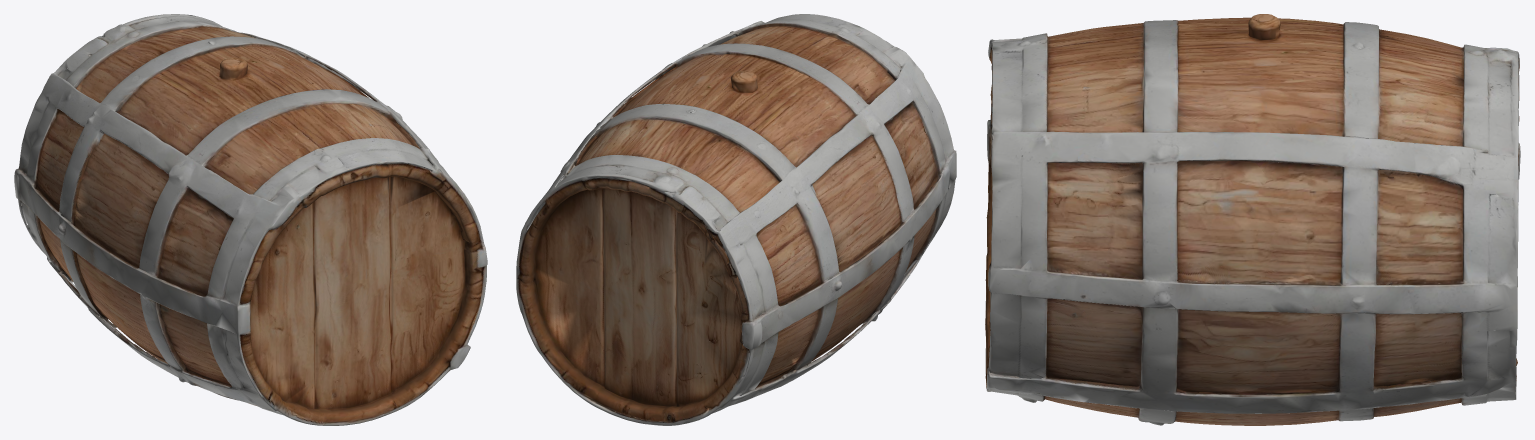
Rendered from prop-barrel.glb.
The picture shows the model from 3 angles, left to right: view 1: azimuth 30°, elevation 25°; view 2: azimuth 150°, elevation 25°; view 3: azimuth 270°, elevation 25°; orthographic projection. The views are drawn at different scales.
Visible parts, largest first — view 1: tripo_node_e84b9dc8-bb39-4323-9679-4997fbee2961; view 2: tripo_node_e84b9dc8-bb39-4323-9679-4997fbee2961; view 3: tripo_node_e84b9dc8-bb39-4323-9679-4997fbee2961.
Part boxes in pixels (left/top/right/bottom): tripo_node_e84b9dc8-bb39-4323-9679-4997fbee2961: left=14, top=14, right=487, bottom=425; tripo_node_e84b9dc8-bb39-4323-9679-4997fbee2961: left=516, top=14, right=956, bottom=425; tripo_node_e84b9dc8-bb39-4323-9679-4997fbee2961: left=985, top=14, right=1520, bottom=425.
Bounding box in the file's own units: 1.03 × 0.9998 × 1.3.
1 material, 1 textured.
